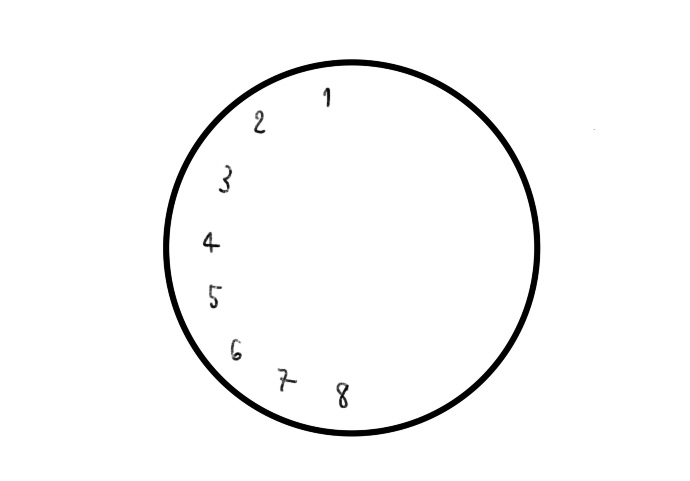eight: (332, 380, 354, 410)
five: (206, 277, 225, 310)
four: (197, 227, 227, 252)
one: (317, 84, 336, 112)
seven: (273, 366, 300, 394)
six: (225, 333, 246, 362)
three: (219, 165, 236, 195)
two: (247, 106, 267, 136)
